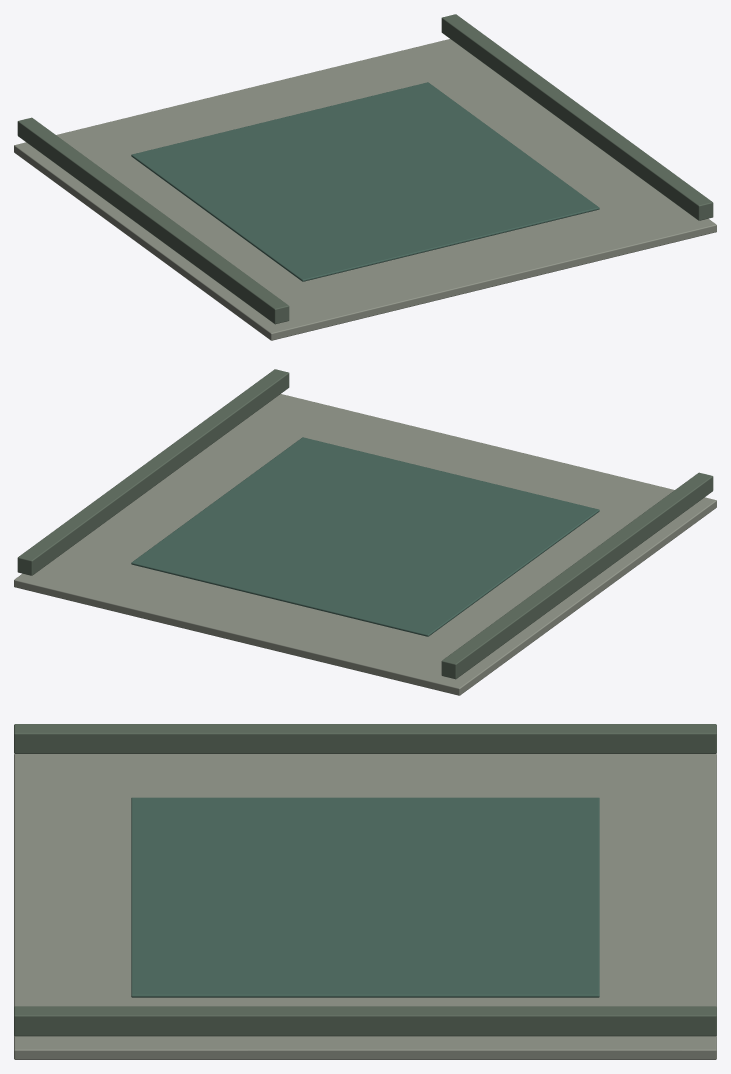
Rendered from undercity-sewers-and-thieves-den-cistern-hall-floor-bb03cd7c__25041.glb.
The picture shows the model from 3 angles, top to bottom: view 1: azimuth 30°, elevation 25°; view 2: azimuth 150°, elevation 25°; view 3: azimuth 270°, elevation 25°; orthographic projection. The views are drawn at different scales.
Parts seen in each view (by area): view 1: cistern-hall-floor; view 2: cistern-hall-floor; view 3: cistern-hall-floor.
Boxes of the visible parts, x1,y1,x2,y2 form: cistern-hall-floor: (14, 14, 716, 340); cistern-hall-floor: (14, 369, 716, 695); cistern-hall-floor: (14, 724, 716, 1059).
Size of the model in its own units: 6 by 0.4002 by 6.
